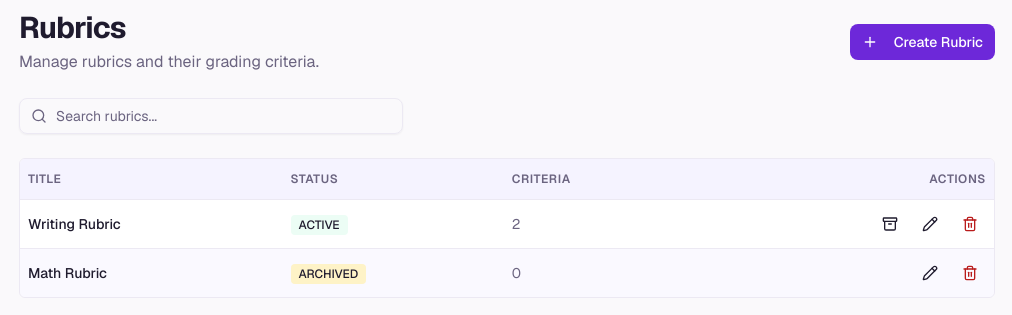
Test: RubricListView › filters rubrics by search query
The image size is (1012, 315).
Check: the text "Writing Rubric" is shown, box 20,199 -> 283,248
Type "Writing" into the field with placeholder "Search rubrics...". click: (211, 116)
box: 19,98 -> 403,134
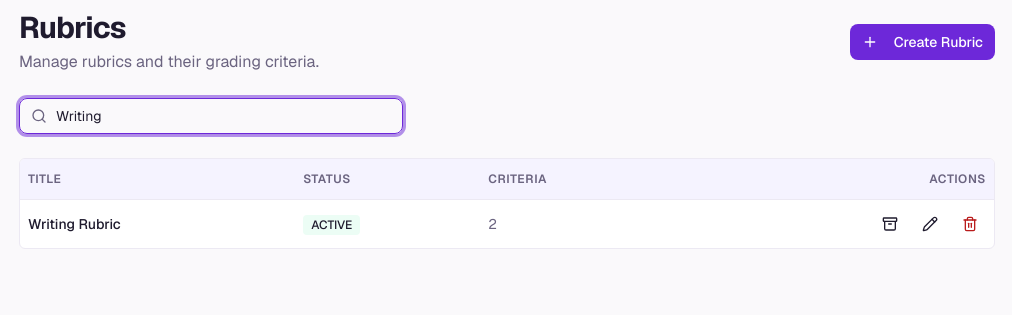
Check: the text "Writing Rubric" is shown, box 20,199 -> 295,248
Check: the text "Math Rubric" is gone
